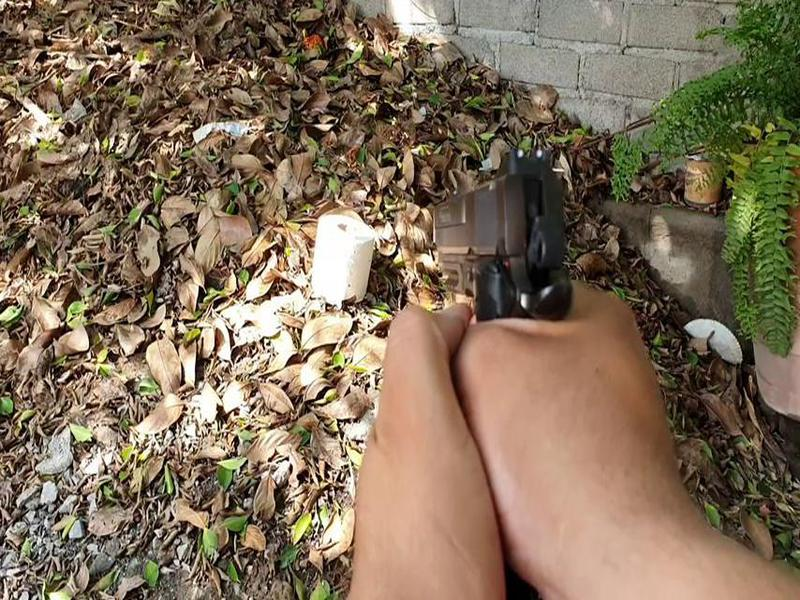Pistola: (404, 157, 607, 362)
